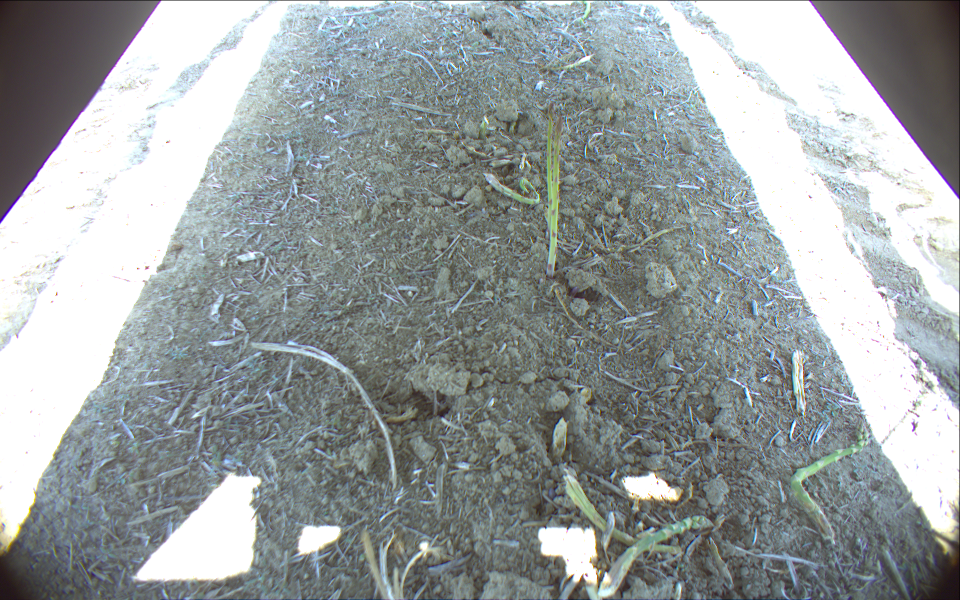aspa: (597, 513, 713, 599), (790, 420, 869, 543), (565, 472, 681, 553), (545, 113, 563, 277), (483, 172, 541, 206), (547, 101, 555, 237), (537, 55, 593, 72), (569, 1, 591, 26)
